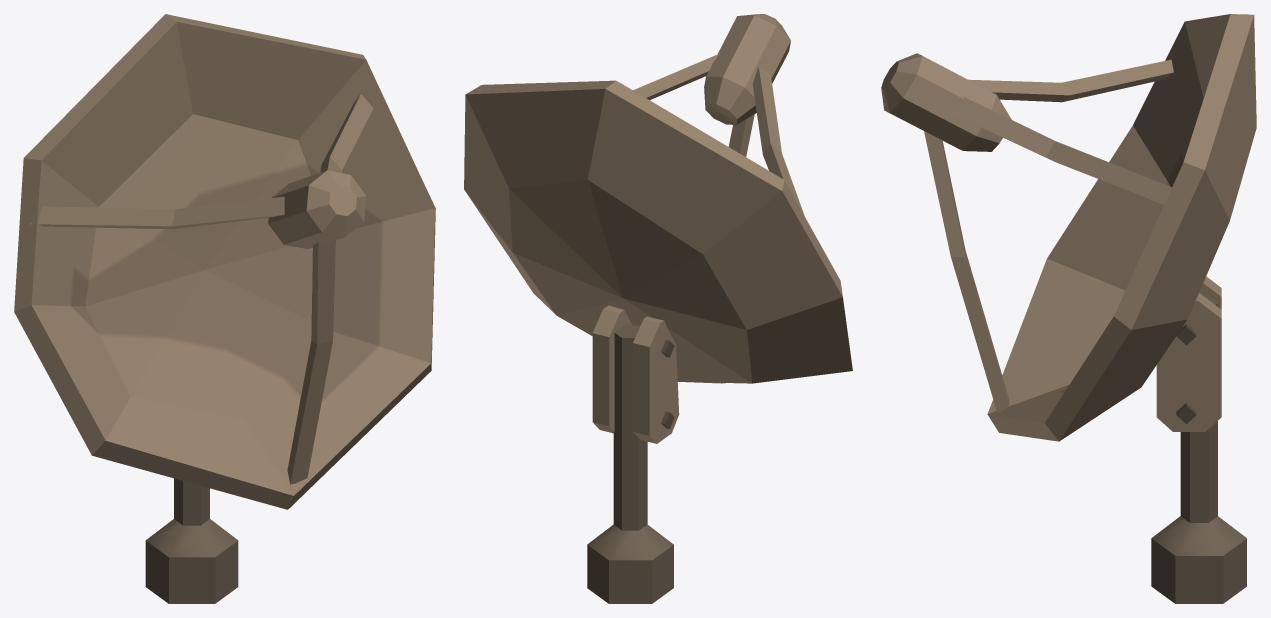
File: SM_Prop_Satellite_Dish_04.fbx
The picture shows the model from 3 angles, left to right: view 1: azimuth 30°, elevation 25°; view 2: azimuth 150°, elevation 25°; view 3: azimuth 270°, elevation 25°; orthographic projection. The views are drawn at different scales.
Parts seen in each view (by area): view 1: SM_Prop_Satellite_Dish_04; view 2: SM_Prop_Satellite_Dish_04; view 3: SM_Prop_Satellite_Dish_04.
Part boxes in pixels (x1,y1,x2,y2): SM_Prop_Satellite_Dish_04: (14, 14, 435, 603); SM_Prop_Satellite_Dish_04: (464, 14, 852, 603); SM_Prop_Satellite_Dish_04: (881, 14, 1256, 603).
Size of the model in its own units: 118 by 151 by 89.53.
